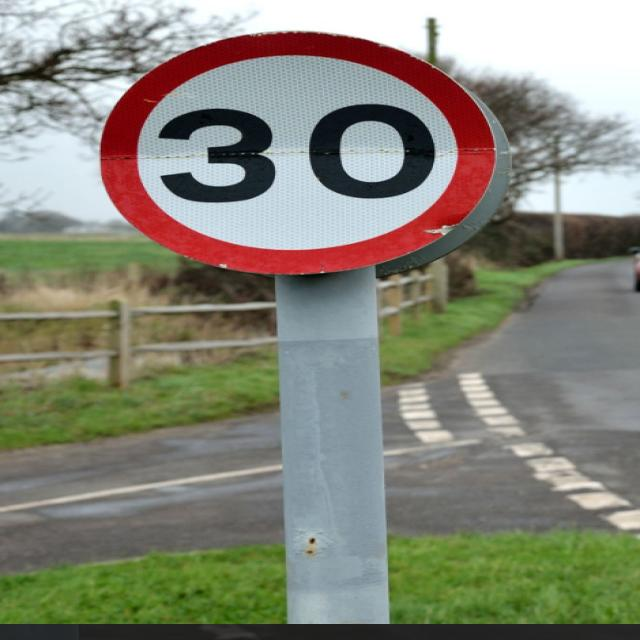Speed limit 30: (98, 30, 514, 278)
